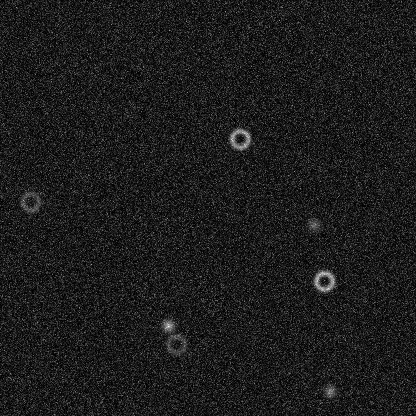Ring: (164, 332, 188, 356), (18, 189, 42, 213), (312, 268, 336, 292), (227, 126, 251, 150)
Spot: (305, 216, 321, 232), (160, 317, 176, 333), (322, 383, 338, 399)
